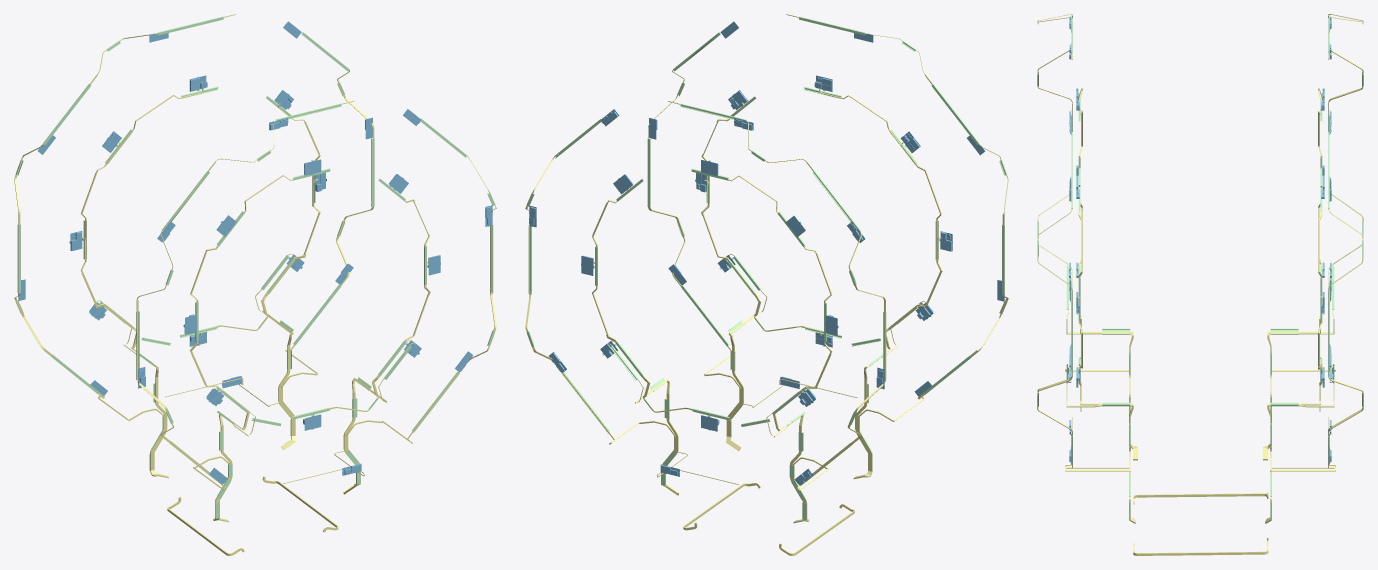
The model's file is MSPatchPannel.glb.
The picture shows the model from 3 angles, left to right: view 1: azimuth 30°, elevation 25°; view 2: azimuth 150°, elevation 25°; view 3: azimuth 270°, elevation 25°; orthographic projection. The views are drawn at different scales.
Visible parts, largest first — view 1: _0000018FDDA8FC10_IndexedFaceSet, _0000018FDDA8FD60_IndexedFaceSet, _0000018FDDA8A810_IndexedFaceSet; view 2: _0000018FDDA8FC10_IndexedFaceSet, _0000018FDDA8FD60_IndexedFaceSet, _0000018FDDA8A810_IndexedFaceSet; view 3: _0000018FDDA8FC10_IndexedFaceSet, _0000018FDDA8FD60_IndexedFaceSet, _0000018FDDA8A810_IndexedFaceSet.
Boxes of the visible parts, x1,y1,x2,y2 form: _0000018FDDA8FC10_IndexedFaceSet: (14, 14, 496, 555); _0000018FDDA8FD60_IndexedFaceSet: (15, 16, 495, 518); _0000018FDDA8A810_IndexedFaceSet: (18, 21, 492, 484); _0000018FDDA8FC10_IndexedFaceSet: (525, 14, 1008, 555); _0000018FDDA8FD60_IndexedFaceSet: (526, 16, 1007, 519); _0000018FDDA8A810_IndexedFaceSet: (529, 21, 1004, 485); _0000018FDDA8FC10_IndexedFaceSet: (1037, 14, 1363, 555); _0000018FDDA8FD60_IndexedFaceSet: (1037, 18, 1363, 520); _0000018FDDA8A810_IndexedFaceSet: (1067, 14, 1333, 464).
Bounding box in the file's own units: 18.02 × 21.89 × 13.24.
